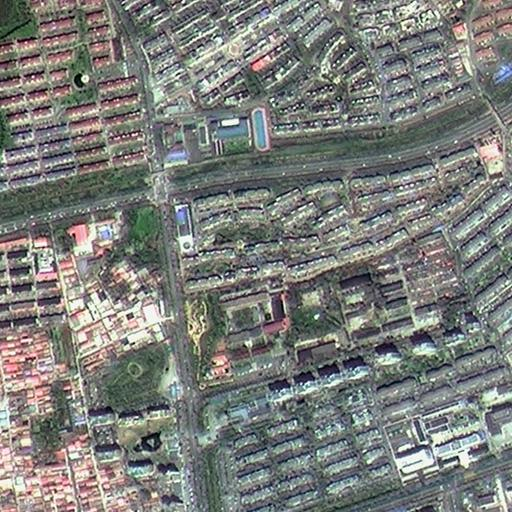school: (157, 104, 271, 167)
